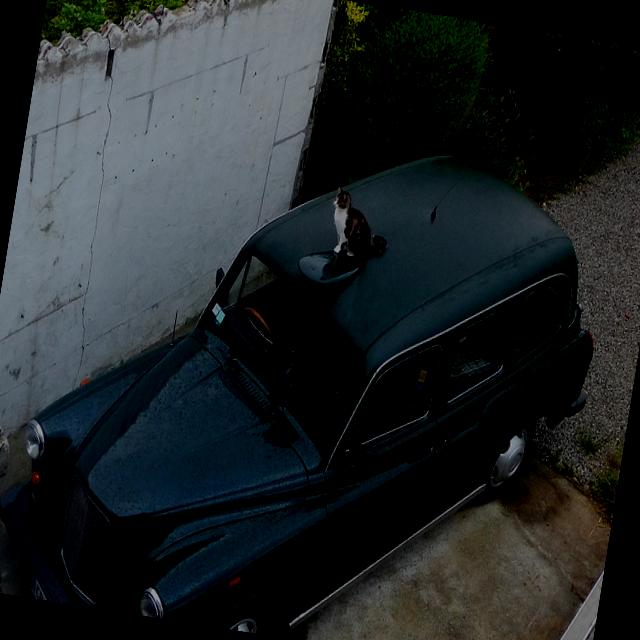Vehicle: (0, 90, 623, 640)
